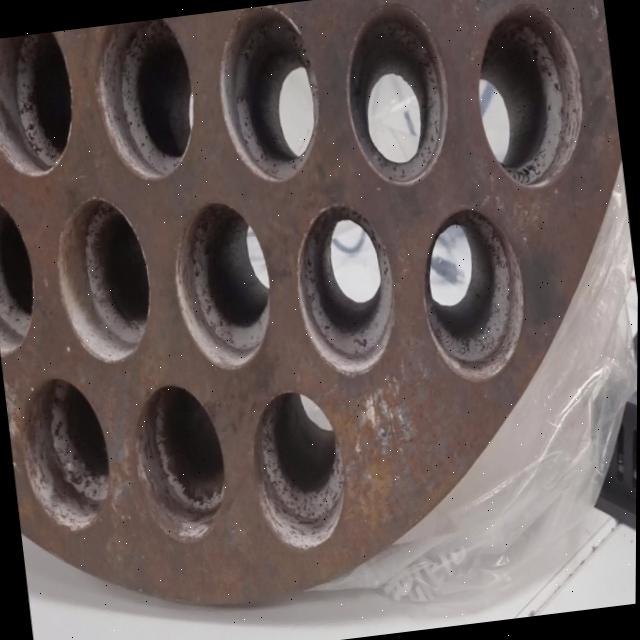Hole: (464, 0, 592, 193), (333, 0, 458, 191), (412, 200, 534, 386), (208, 0, 328, 187), (286, 196, 403, 380), (165, 195, 279, 374), (87, 14, 203, 184), (47, 191, 158, 367), (243, 384, 353, 556), (126, 378, 233, 546), (14, 370, 117, 536), (0, 29, 80, 181), (0, 188, 42, 355)
